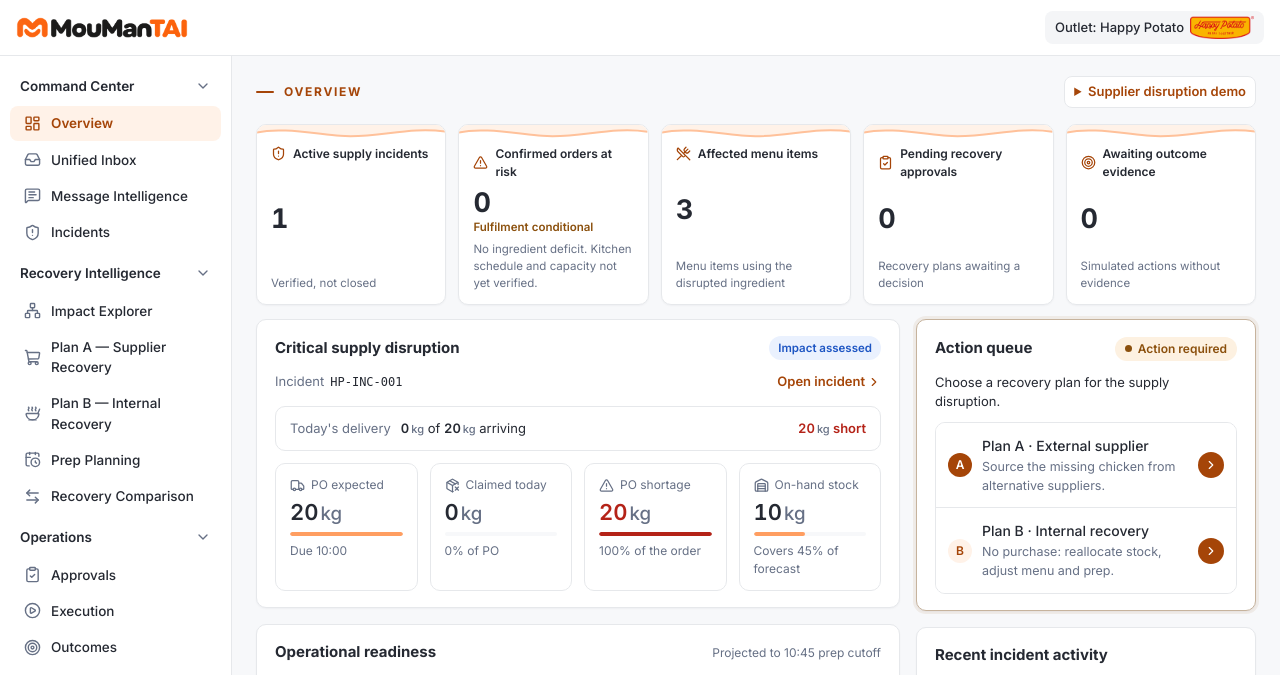
Test case: Operations Overview › KPI card navigates to incidents and opens the incident
Click the link "Confirmed orders at risk". click: {"x": 554, "y": 214}
box: [458,124,649,305]
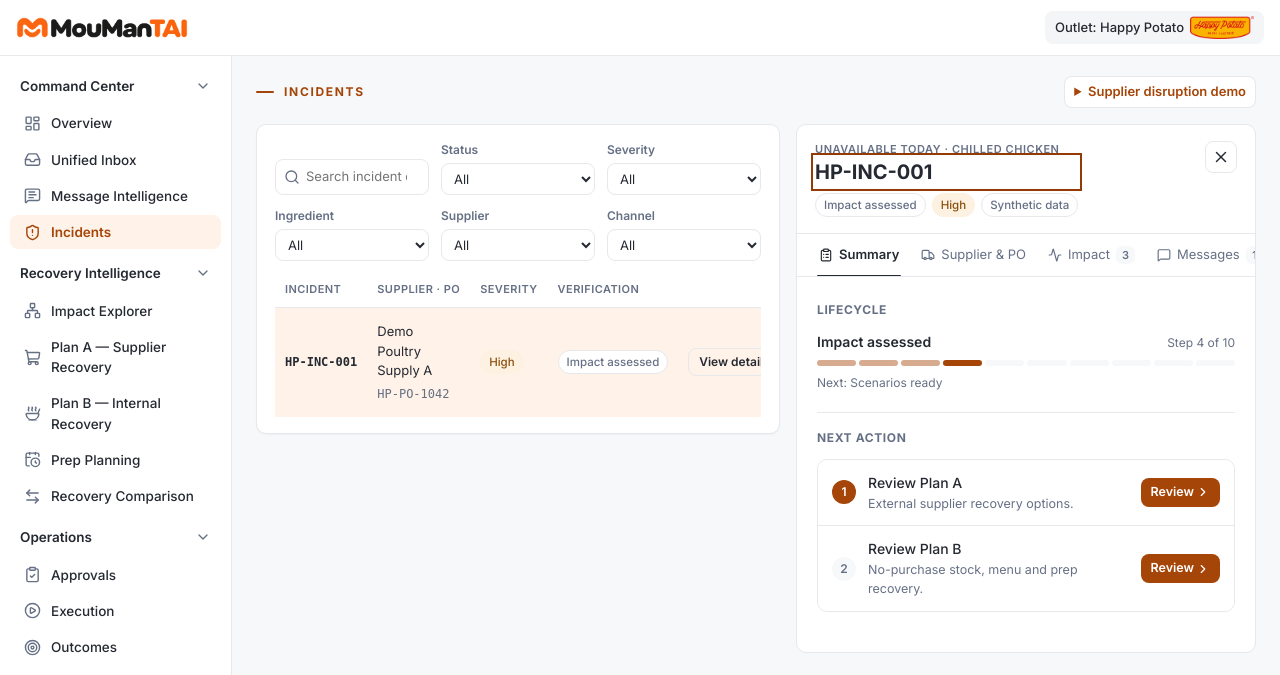
Expected: the dialog "HP-INC-001" is shown, [796,124,1256,653]
